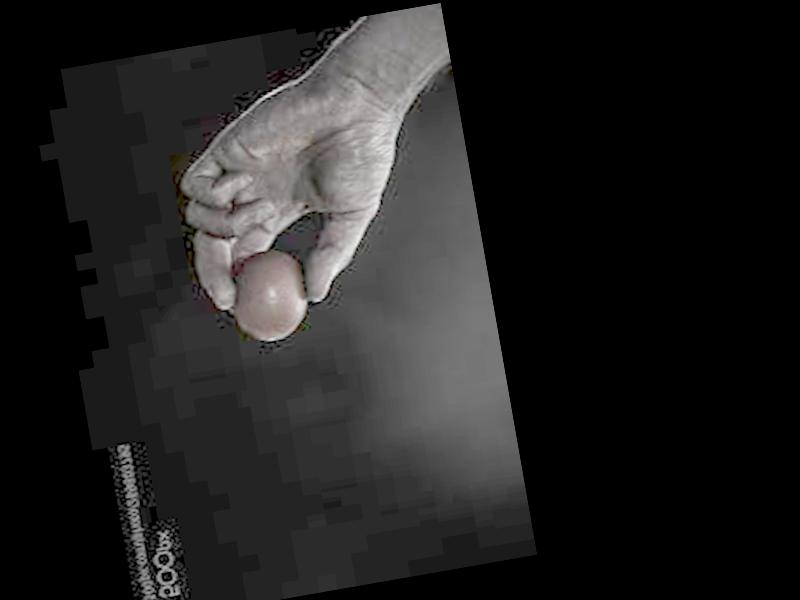Eggs: (225, 242, 316, 345)
